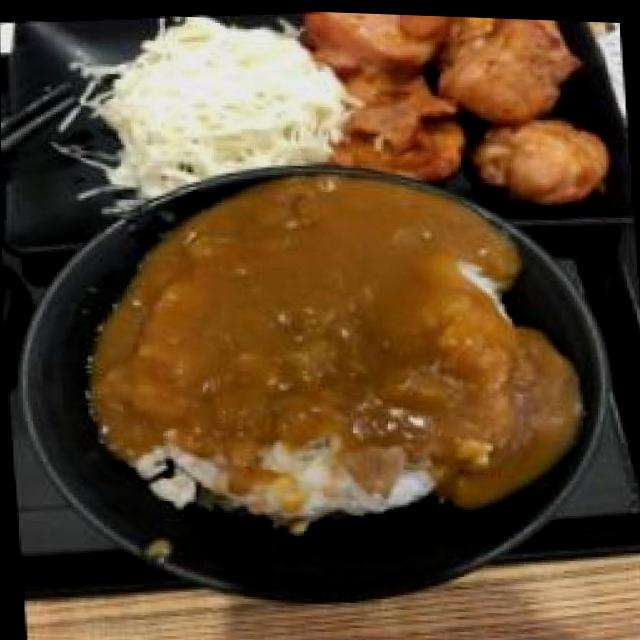curry: (71, 145, 593, 545)
